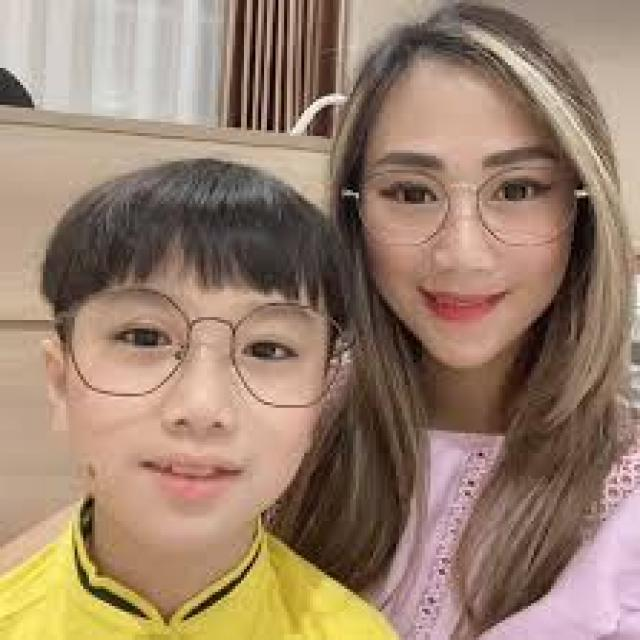Glasses: (55, 281, 362, 414)
